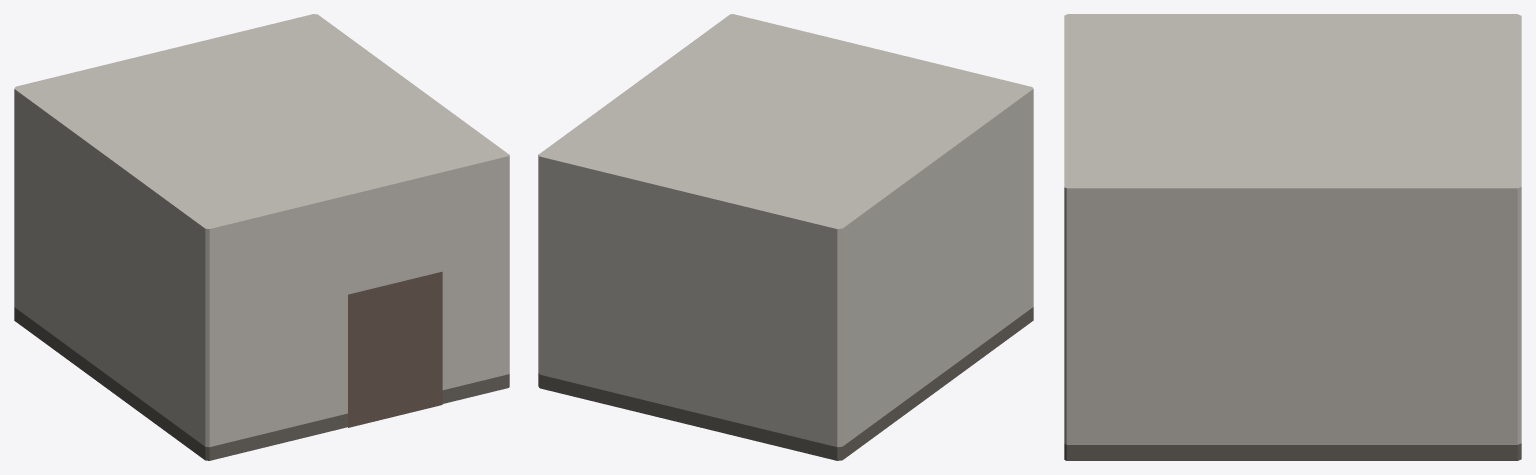
Rendered from loin-etape-1.glb.
3 views of the same model, side by side, from view 1: azimuth 30°, elevation 25°; view 2: azimuth 150°, elevation 25°; view 3: azimuth 270°, elevation 25° (orthographic). The views are drawn at different scales.
Visible parts, largest first — view 1: loin; view 2: loin; view 3: loin.
Boxes of the visible parts, x1,y1,x2,y2 form: loin: (14,14,509,460); loin: (538,14,1033,460); loin: (1064,14,1521,460).
Size of the model in its own units: 0.7089 by 0.5169 by 0.7891.
